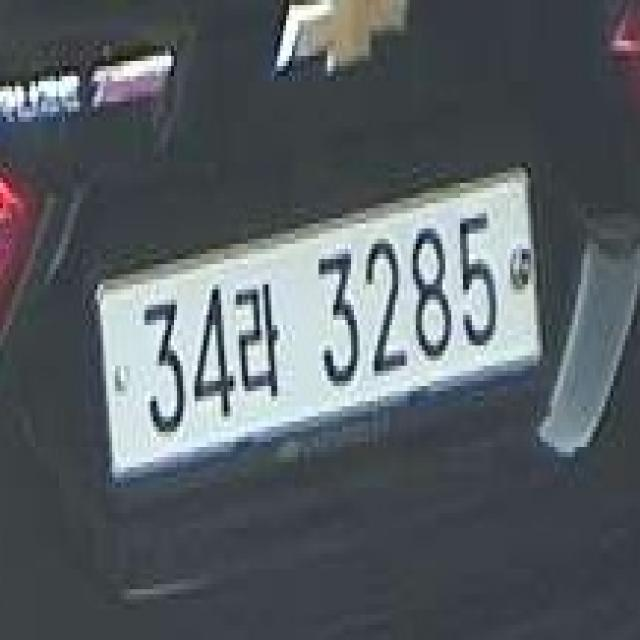2: (363, 239, 407, 376)
3: (316, 244, 362, 391), (142, 294, 186, 436)
4: (186, 284, 239, 422)
5: (454, 214, 498, 346)
8: (407, 218, 454, 360)
la: (230, 279, 280, 396)
license_plate: (92, 162, 546, 482)
